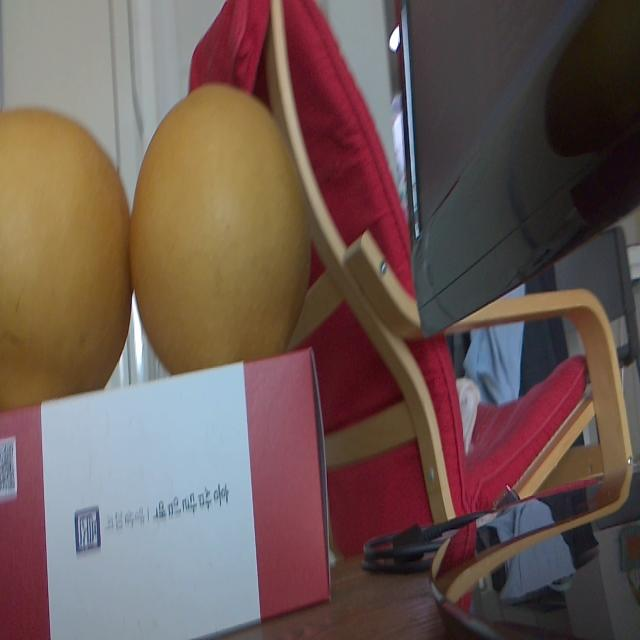pear: (132, 83, 312, 357), (1, 106, 130, 404)
